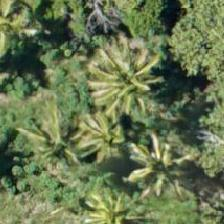coconut_tree: (120, 113, 210, 203), (54, 96, 144, 186), (66, 16, 156, 106), (67, 169, 157, 223)
